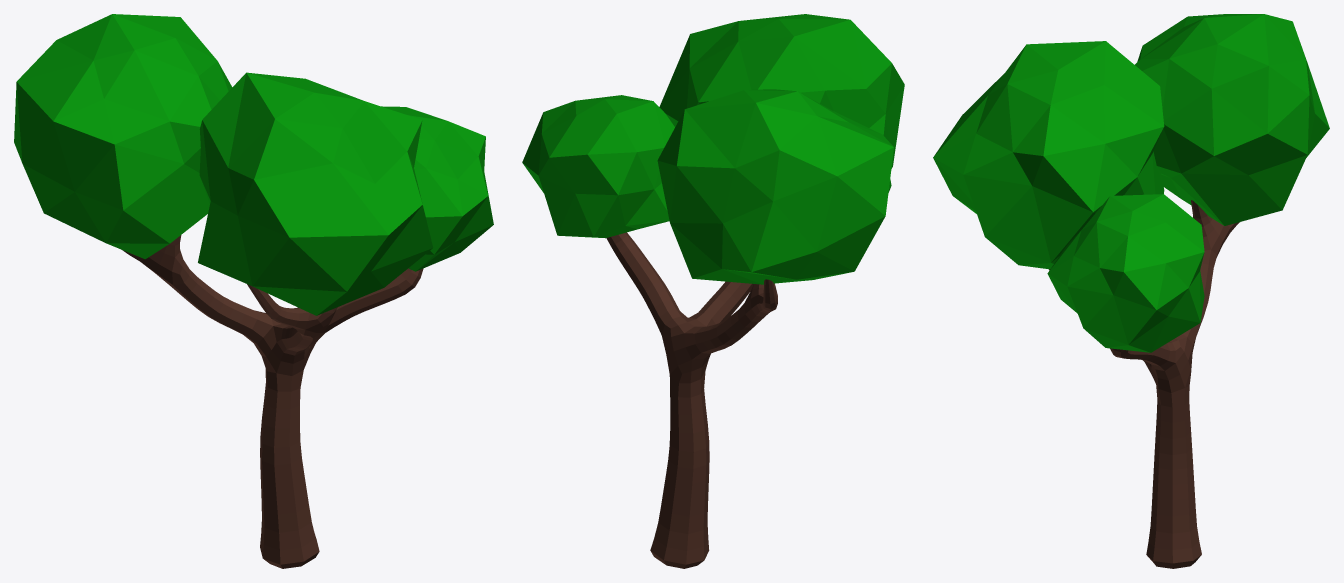
File: TREE1.fbx
The picture shows the model from 3 angles, left to right: view 1: azimuth 30°, elevation 25°; view 2: azimuth 150°, elevation 25°; view 3: azimuth 270°, elevation 25°; orthographic projection. The views are drawn at different scales.
Visible parts, largest first — view 1: Icosphere, Plane; view 2: Icosphere, Plane; view 3: Icosphere, Plane.
Part boxes in pixels (x1,y1,x2,y2): Icosphere: (14, 14, 493, 315); Plane: (122, 235, 423, 568); Icosphere: (522, 14, 904, 284); Plane: (606, 232, 777, 568); Icosphere: (933, 14, 1329, 352); Plane: (1049, 200, 1239, 568).
Bounding box in the file's own units: 748 × 937 × 683.
